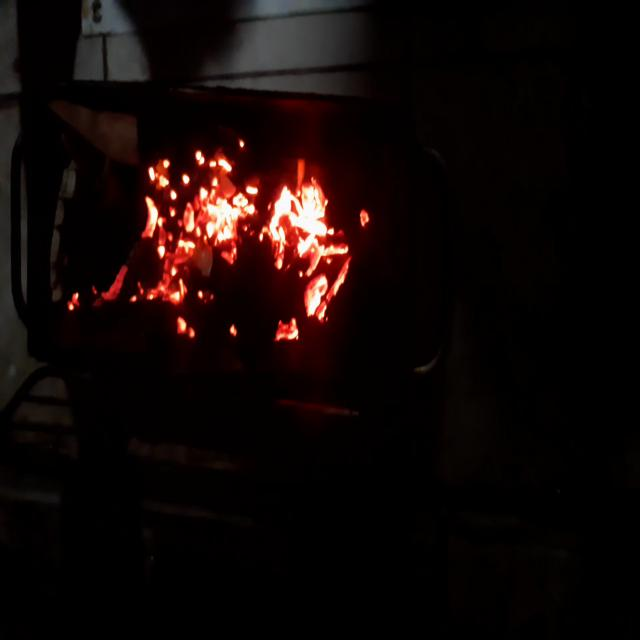Fire: (65, 132, 381, 368)
